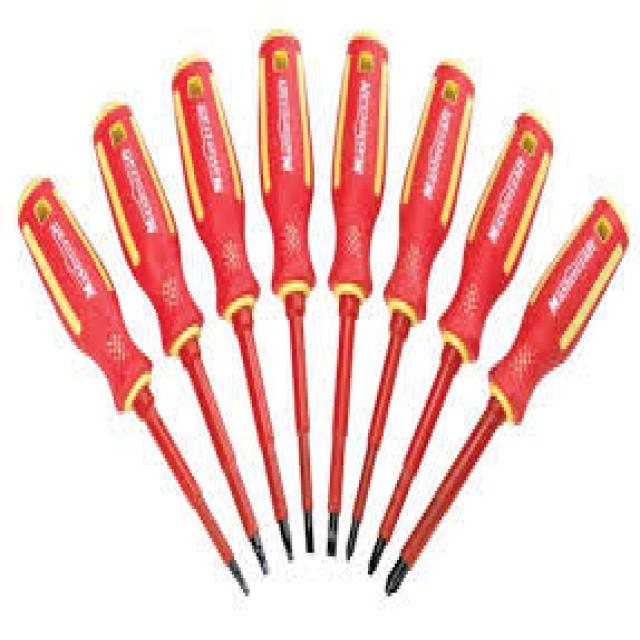screw driver: (247, 27, 344, 562)
